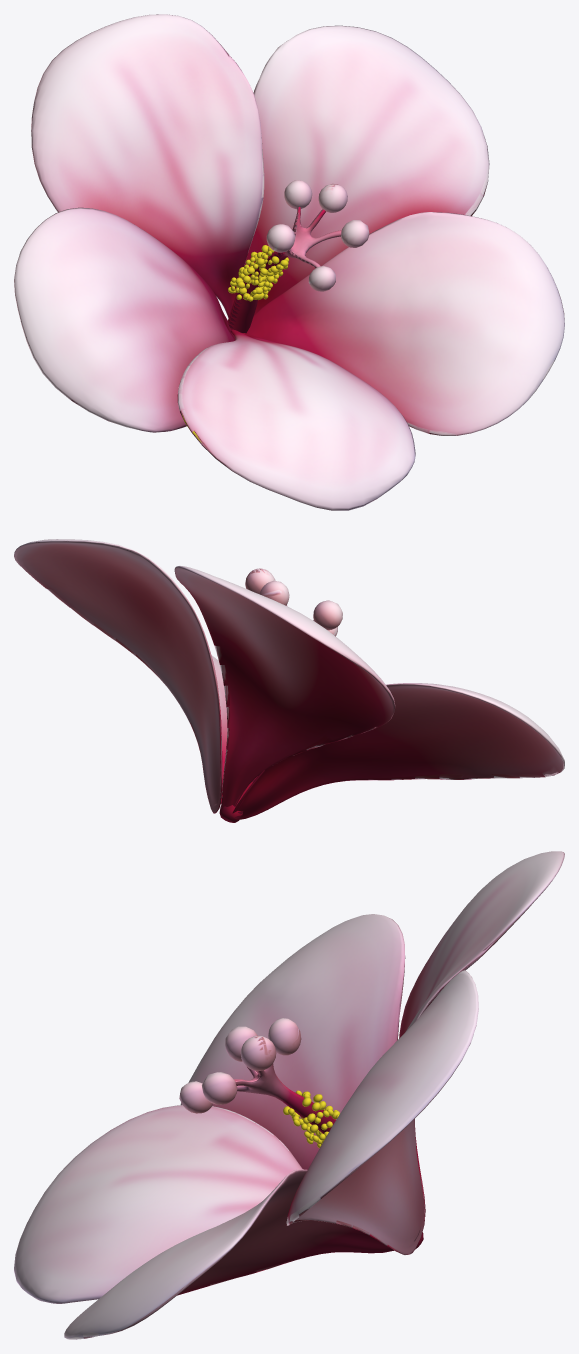
3 views of the same model, one above another, from view 1: azimuth 30°, elevation 25°; view 2: azimuth 150°, elevation 25°; view 3: azimuth 270°, elevation 25° (orthographic). The views are drawn at different scales.
Parts seen in each view (by area): view 1: Circle.002; view 2: Circle.002; view 3: Circle.002.
Boxes of the visible parts, bbox=[...] form: Circle.002: bbox=[14, 14, 564, 510]; Circle.002: bbox=[14, 539, 564, 822]; Circle.002: bbox=[14, 851, 564, 1339].
Size of the model in its own units: 0.4892 by 0.3201 by 0.3934.
1 material, 1 textured.
